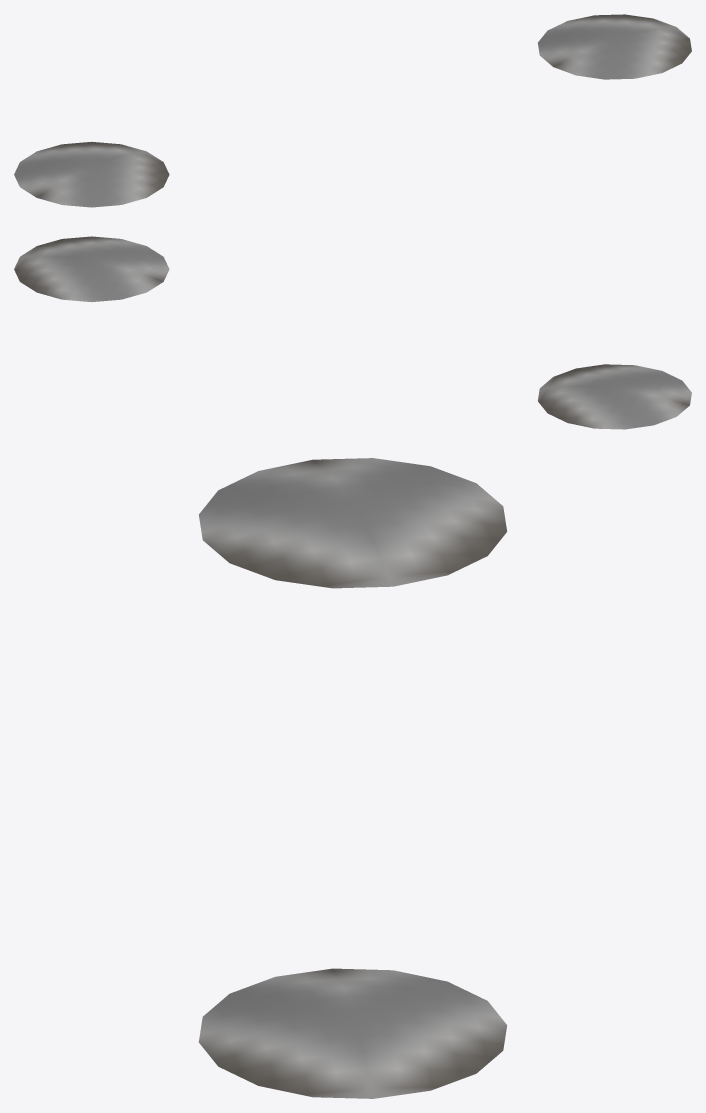
Rendered from big crew narrow adapter windows.obj.
3 views of the same model, one above another, from view 1: azimuth 30°, elevation 25°; view 2: azimuth 150°, elevation 25°; view 3: azimuth 270°, elevation 25° (orthographic). The views are drawn at different scales.
Visible parts, largest first — view 1: w1; view 2: w1; view 3: w1.
Boxes of the visible parts, x1,y1,x2,y2 form: w1: (14, 14, 691, 207); w1: (14, 236, 691, 429); w1: (199, 458, 507, 1098).
Bounding box in the file's own units: 0.4874 × 0.00625 × 0.0991.
